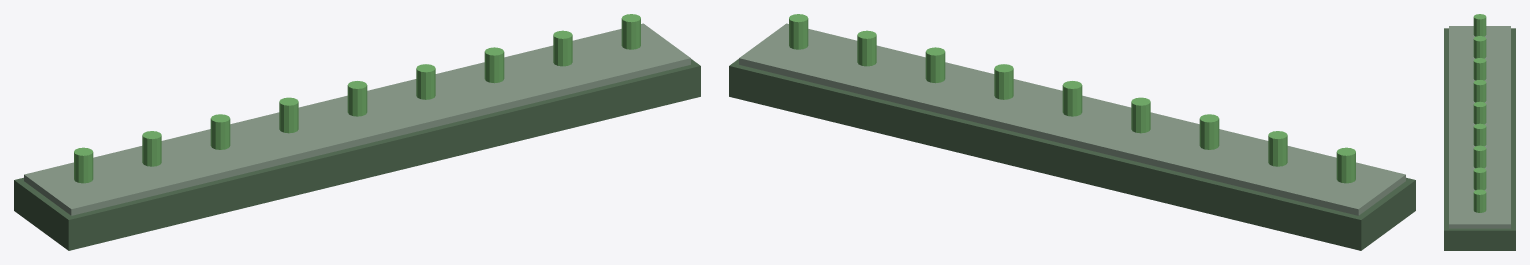
File: hydroponic_bed_6000x900.obj
3 renders of one model, left to right at view 1: azimuth 30°, elevation 25°; view 2: azimuth 150°, elevation 25°; view 3: azimuth 270°, elevation 25°, orthographic. The views are drawn at different scales.
Visible parts, largest first — view 1: plant_surface, bed_tray, plant_marker; view 2: plant_surface, bed_tray, plant_marker; view 3: plant_surface, bed_tray, plant_marker.
Part boxes in pixels (left/top/right/bottom): plant_surface: left=24, top=23, right=690, bottom=215; bed_tray: left=14, top=59, right=700, bottom=250; plant_marker: left=74, top=14, right=640, bottom=183; plant_surface: left=739, top=23, right=1405, bottom=215; bed_tray: left=729, top=59, right=1415, bottom=250; plant_marker: left=789, top=14, right=1355, bottom=183; plant_surface: left=1449, top=26, right=1510, bottom=228; bed_tray: left=1444, top=28, right=1515, bottom=250; plant_marker: left=1473, top=14, right=1486, bottom=212.
Size of the model in its own units: 6 by 0.625 by 0.9.
